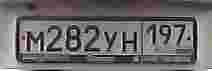license-plateSW: (18, 18, 194, 57)
